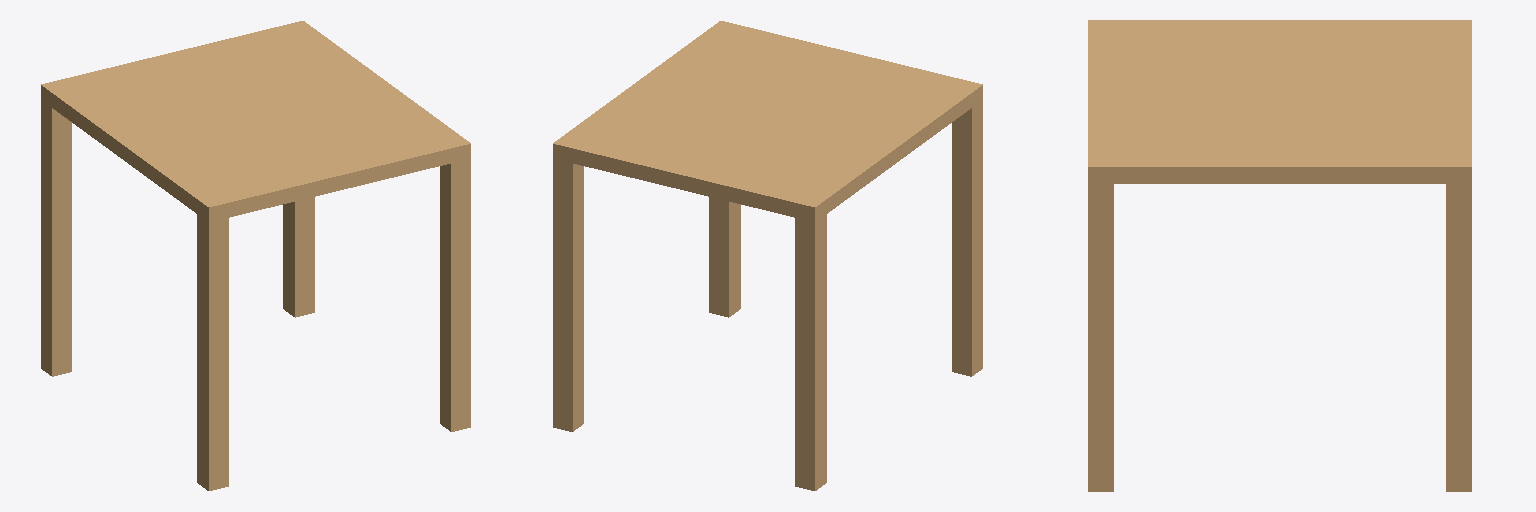
The robot description file, URDF, robot "custom_table_top_at_zero":
<?xml version="1.0"?>
<robot name="custom_table_top_at_zero">

  <link name="table_link">
    <!-- Keep some inertial values to avoid warnings; adjust mass as you wish -->
    <inertial>
      <origin xyz="0 0 -0.3" rpy="0 0 0"/>
      <mass value="10.0"/>
      <inertia ixx="1" iyy="1" izz="1" ixy="0" ixz="0" iyz="0"/>
    </inertial>

    <!-- ========= Tabletop (top surface at world Z = 0) ========= -->
    <!-- Top thickness 0.05 → center at Z = -0.025 so top lives at 0 -->
    <visual>
      <origin xyz="0 0 -0.025" rpy="0 0 0"/>
      <geometry><box size="0.92 1.02 0.05"/></geometry>
      <material name="wood_top"><color rgba="0.87 0.72 0.53 1"/></material>
    </visual>
    <collision>
      <origin xyz="0 0 -0.025" rpy="0 0 0"/>
      <geometry><box size="0.92 1.02 0.05"/></geometry>
    </collision>

    <!-- ========= Four legs (0.90 high) : span -0.95 .. -0.05 ========= -->
    <!-- Leg centers at Z = -0.50 -->
    <!-- Leg half-size in X/Y = 0.035; tabletop half-sizes = 0.46 and 0.51 -->
    <!-- Leg centers = (±(0.46 - 0.035), ±(0.51 - 0.035)) = (±0.425, ±0.475) -->
    <visual>
      <origin xyz="-0.425 -0.475 -0.50" rpy="0 0 0"/>
      <geometry><box size="0.07 0.07 0.90"/></geometry>
      <material name="wood_leg"><color rgba="0.87 0.72 0.53 1"/></material>
    </visual>
    <visual>
      <origin xyz="-0.425  0.475 -0.50" rpy="0 0 0"/>
      <geometry><box size="0.07 0.07 0.90"/></geometry>
      <material name="wood_leg"/>
    </visual>
    <visual>
      <origin xyz=" 0.425 -0.475 -0.50" rpy="0 0 0"/>
      <geometry><box size="0.07 0.07 0.90"/></geometry>
      <material name="wood_leg"/>
    </visual>
    <visual>
      <origin xyz=" 0.425  0.475 -0.50" rpy="0 0 0"/>
      <geometry><box size="0.07 0.07 0.90"/></geometry>
      <material name="wood_leg"/>
    </visual>

    <!-- Optional leg collisions (one is enough for stability; add all 4 if needed) -->
    <collision>
      <origin xyz="-0.425 -0.475 -0.50" rpy="0 0 0"/>
      <geometry><box size="0.07 0.07 0.90"/></geometry>
    </collision>
    <collision>
      <origin xyz="-0.425  0.475 -0.50" rpy="0 0 0"/>
      <geometry><box size="0.07 0.07 0.90"/></geometry>
    </collision>
    <collision>
      <origin xyz=" 0.425 -0.475 -0.50" rpy="0 0 0"/>
      <geometry><box size="0.07 0.07 0.90"/></geometry>
    </collision>
    <collision>
      <origin xyz=" 0.425  0.475 -0.50" rpy="0 0 0"/>
      <geometry><box size="0.07 0.07 0.90"/></geometry>
    </collision>

  </link>
</robot>

--- Render facts (derived) ---
3 views of the same robot in one strip: view 1: azimuth 30°, elevation 25°; view 2: azimuth 150°, elevation 25°; view 3: azimuth 270°, elevation 25° (orthographic).
Model custom_table_top_at_zero with 1 links and 0 joints (none), rooted at table_link, posed every joint at zero.
Visible links, largest first — view 1: table_link; view 2: table_link; view 3: table_link.
Boxes of the visible links, x1,y1,x2,y2 form: table_link: (41,21,470,490); table_link: (553,21,982,490); table_link: (1088,20,1471,491).
Bounding box of the posed robot: 0.92 × 1.02 × 0.95 m (x, y, z).
Geometry: primitives only (box / cylinder / sphere), no mesh files.